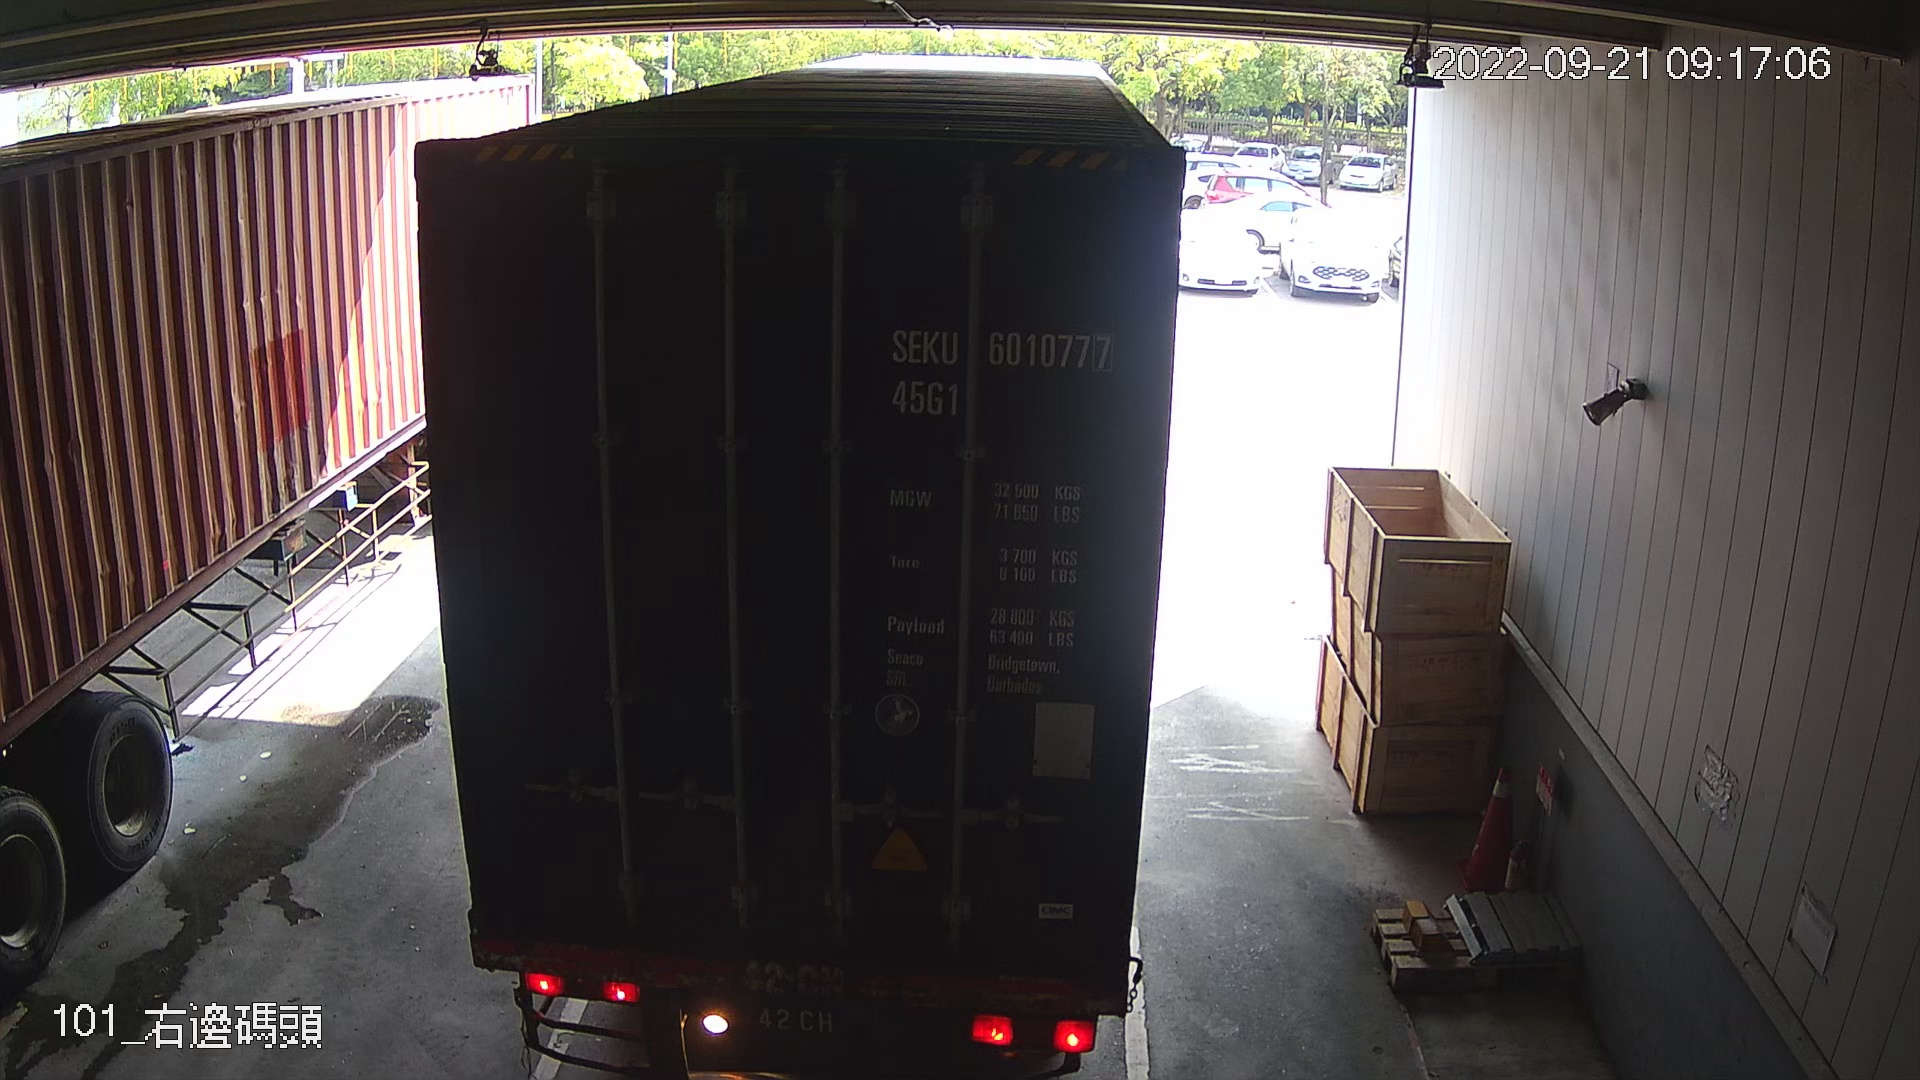container: (880, 314, 1124, 433)
